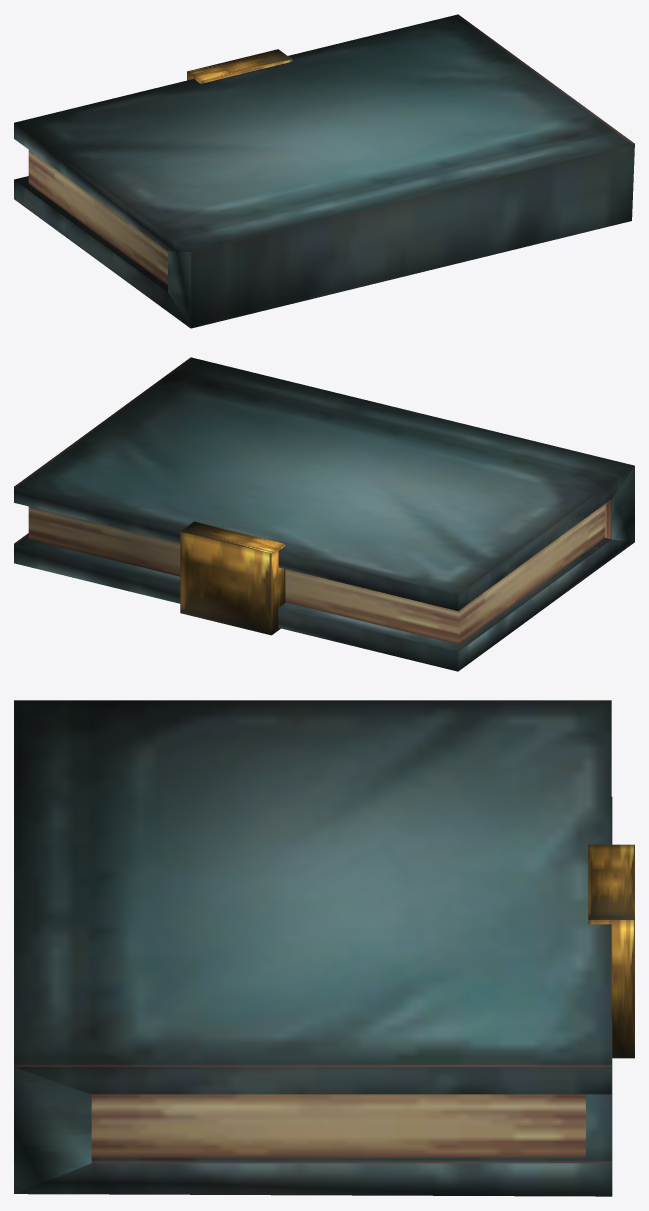
File: uldamanbook01.obj
3 views of the same model, one above another, from view 1: azimuth 30°, elevation 25°; view 2: azimuth 150°, elevation 25°; view 3: azimuth 270°, elevation 25° (orthographic). The views are drawn at different scales.
Size of the model in its own units: 2.96 by 0.5201 by 2.12.
Materials: 1 (1 with a texture image).
